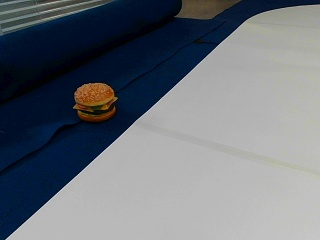burger: (73, 82, 117, 120)
